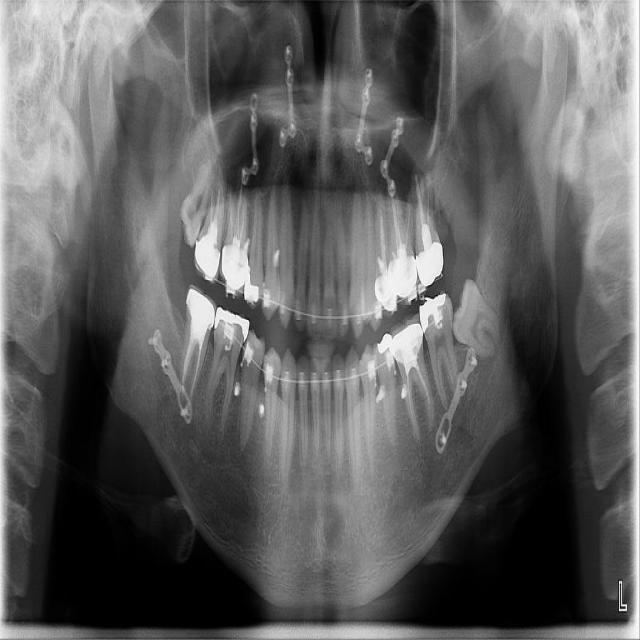3M ESPE Implant: (174, 159, 216, 250)
52: (181, 238, 231, 286), (386, 313, 429, 365), (207, 305, 255, 348), (215, 242, 251, 292), (412, 239, 446, 289), (418, 291, 454, 336), (387, 251, 418, 298), (186, 285, 216, 332), (369, 330, 397, 374), (373, 275, 396, 313), (243, 274, 264, 311), (182, 194, 205, 222)
73: (393, 347, 441, 440), (195, 154, 238, 255), (176, 314, 211, 403), (412, 164, 442, 255), (385, 179, 416, 267), (222, 168, 249, 257), (374, 190, 395, 282), (570, 578, 576, 588)
BioHorizons Implant: (407, 162, 446, 288)
Biomet 3i Implant: (450, 276, 501, 359)
Blue Sky Bio Implant: (418, 292, 462, 408)
Caries: (193, 154, 231, 283)
Implant: (176, 283, 220, 403)
